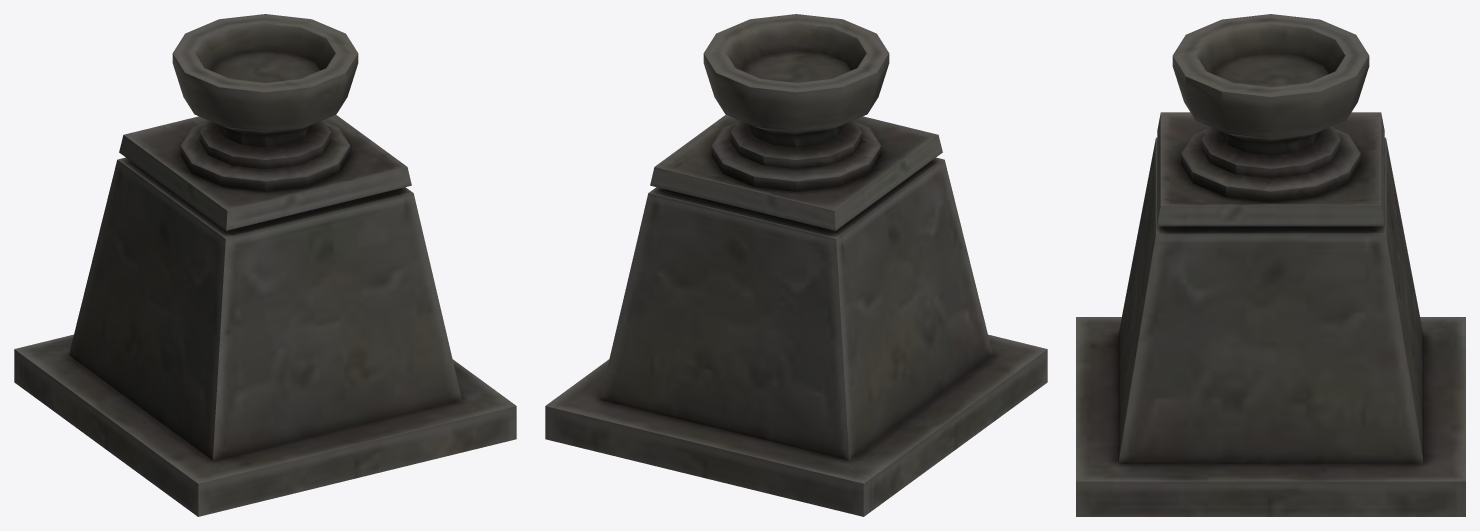
File: prp_altar.glb
3 renders of one model, left to right at view 1: azimuth 30°, elevation 25°; view 2: azimuth 150°, elevation 25°; view 3: azimuth 270°, elevation 25°, orthographic. The views are drawn at different scales.
Parts seen in each view (by area): view 1: Object_2; view 2: Object_2; view 3: Object_2.
Part boxes in pixels (<box>): Object_2: <box>14,14,516,516</box>; Object_2: <box>545,14,1047,516</box>; Object_2: <box>1076,14,1465,516</box>.
Bounding box in the file's own units: 1.2 × 1.29 × 1.2.
Materials: 1 (1 with a texture image).
